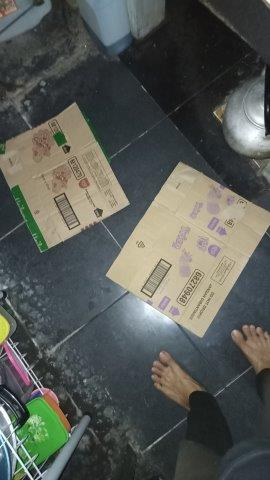kardus: (106, 163, 270, 337), (1, 104, 129, 252)
